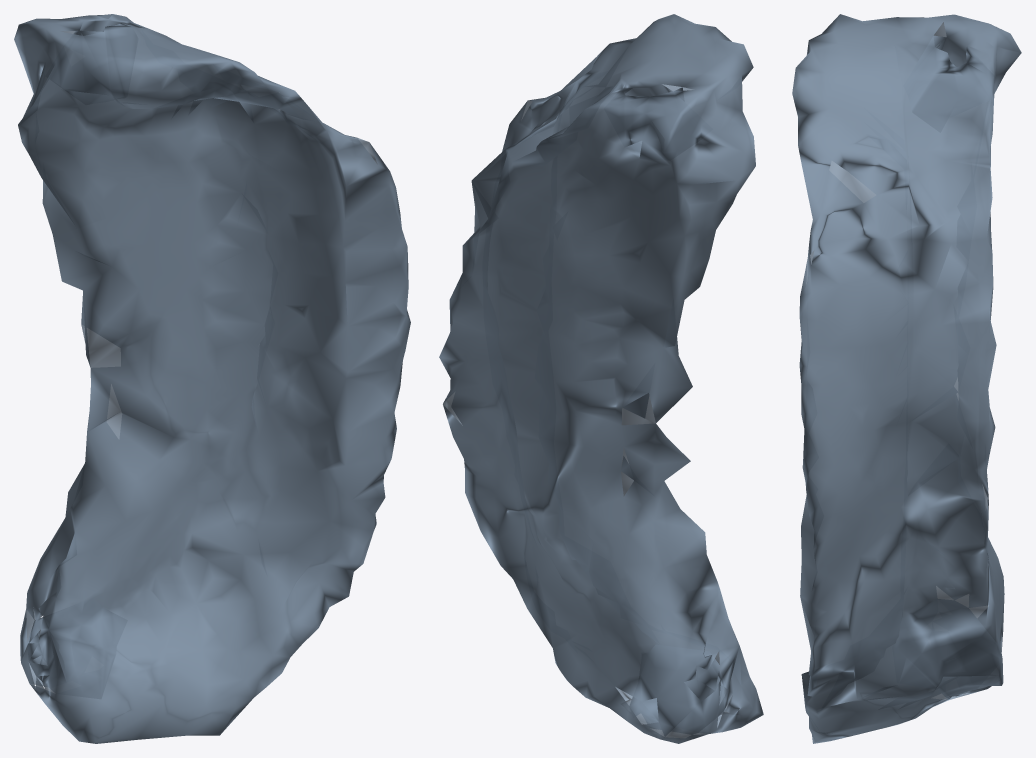
The model's file is sample_757_recon.obj.
3 views of the same model, side by side, from view 1: azimuth 30°, elevation 25°; view 2: azimuth 150°, elevation 25°; view 3: azimuth 270°, elevation 25° (orthographic). The views are drawn at different scales.
Bounding box in the file's own units: 0.9182 × 1.8 × 0.5446.
